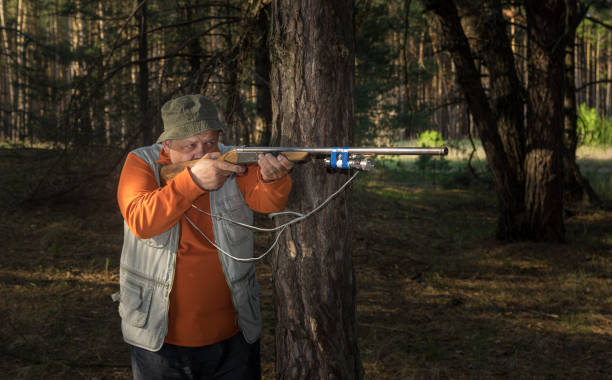gun: (154, 146, 449, 189)
